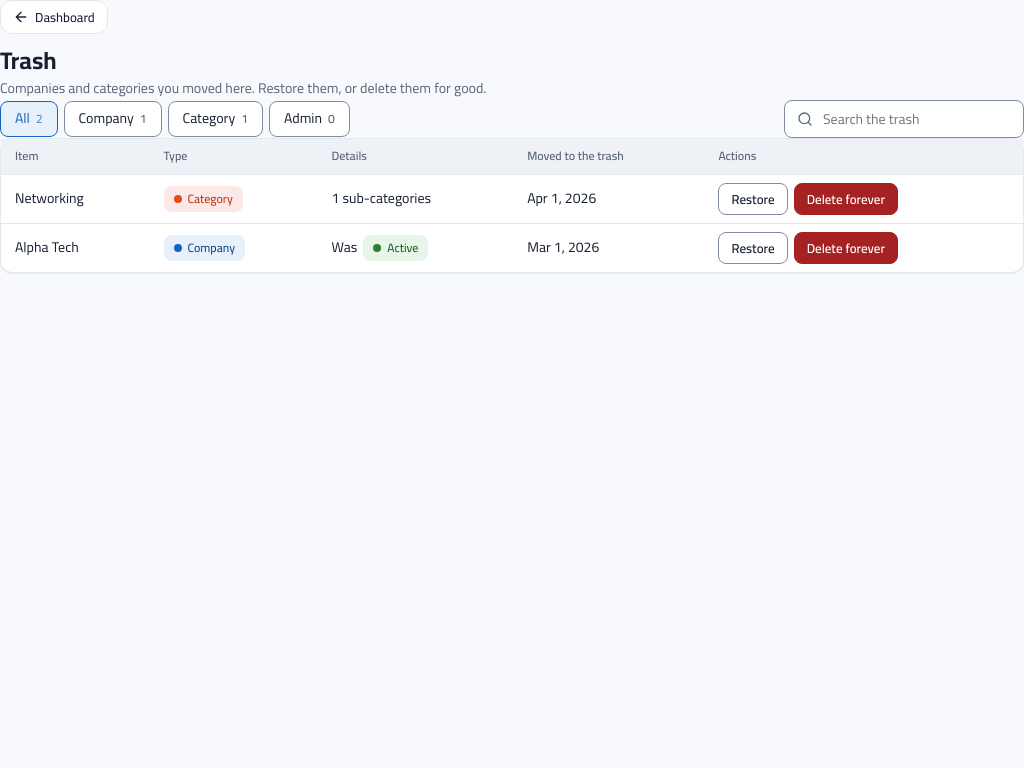
it: deleting for good › asks first, spelling out what goes and that orders stay, then runs the full deletion
The image size is (1024, 768).
Click the button "Delete forever" in the row of "Alpha Tech": coordinates (846, 248) [794,232,898,264]
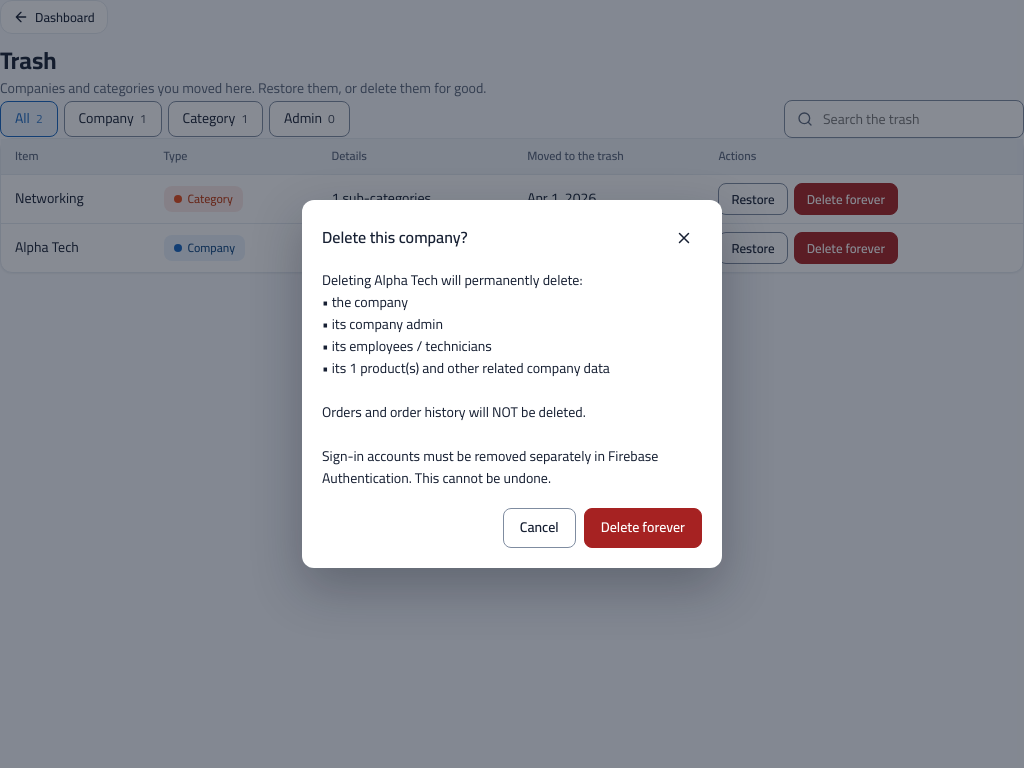
Expected: the dialog "Delete this company?" shows "Alpha Tech", [322,267,658,491]
Expected: the dialog "Delete this company?" shows "Orders and order history will NOT be deleted", [322,267,658,491]
Click the button "Delete forever": coordinates (643, 528) [584,508,702,548]
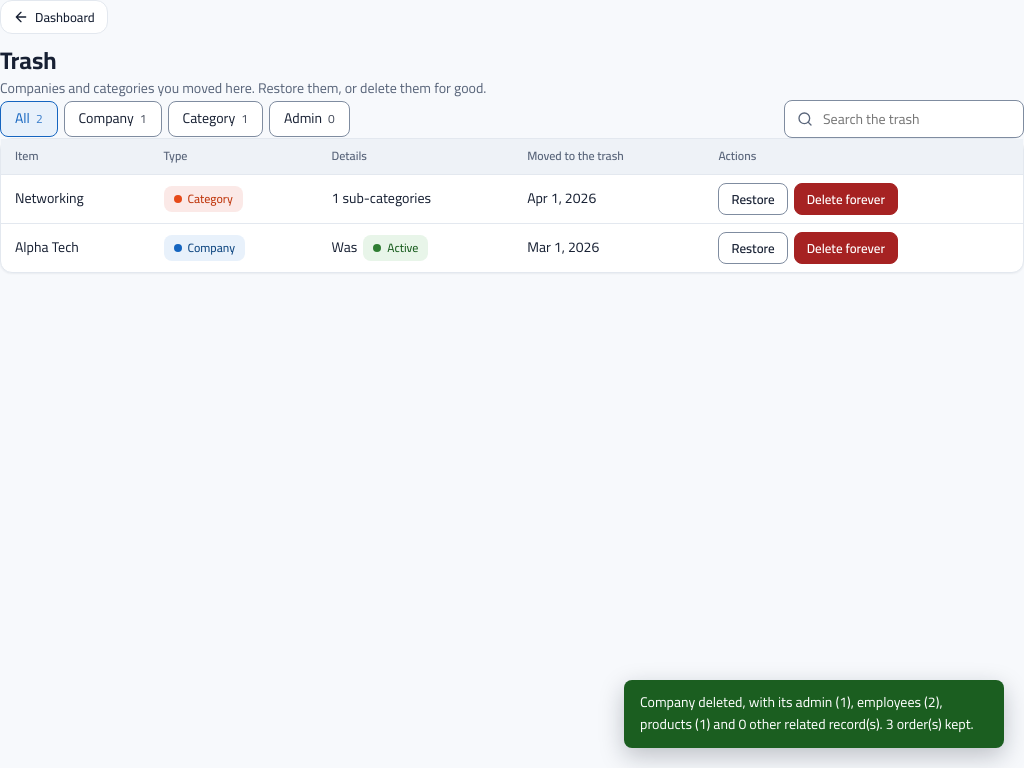
Expected: the text "3 order(s) kept" is shown, [640,689,974,737]
